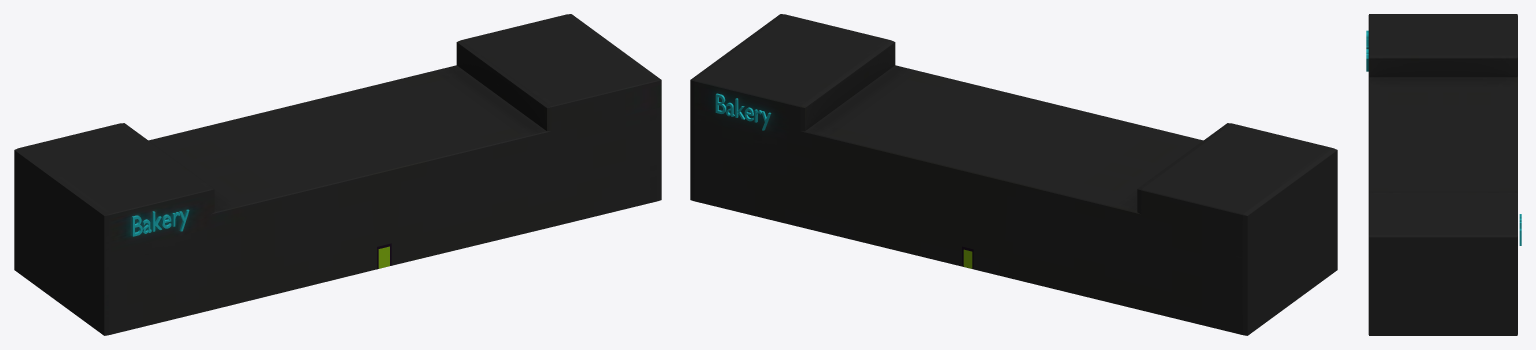
Rendered from bakery10.dae.
3 renders of one model, left to right at view 1: azimuth 30°, elevation 25°; view 2: azimuth 150°, elevation 25°; view 3: azimuth 270°, elevation 25°, orthographic. The views are drawn at different scales.
Parts seen in each view (by area): view 1: Cube; view 2: Cube; view 3: Cube.
Part boxes in pixels (x1,y1,x2,y2): Cube: (14, 14, 661, 335); Cube: (690, 14, 1337, 335); Cube: (1366, 14, 1521, 335).
Size of the model in its own units: 281 by 82.44 by 58.18.
1 material, 1 textured.
